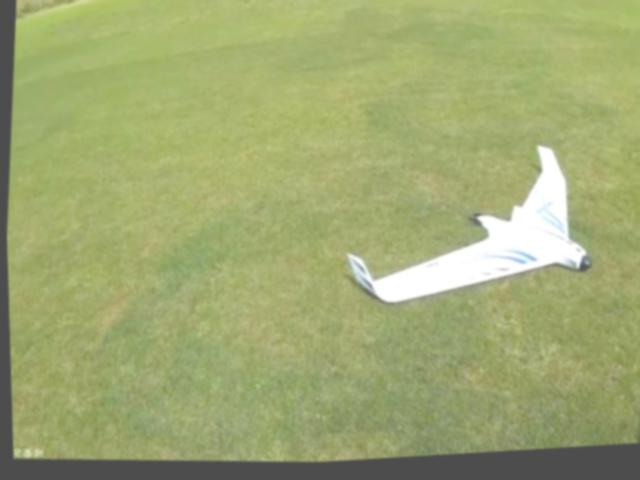flying wing: (337, 122, 600, 324)
